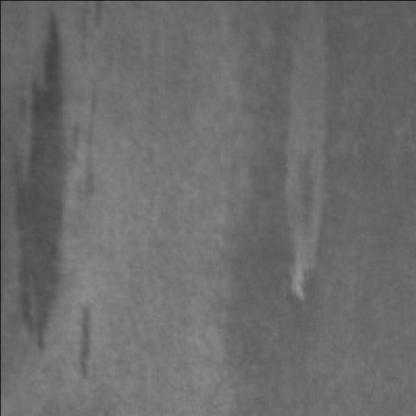inclusion: (8, 8, 79, 358), (73, 295, 106, 385)
